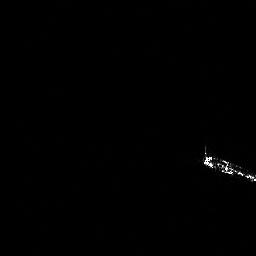ship: (197, 144, 256, 185)
